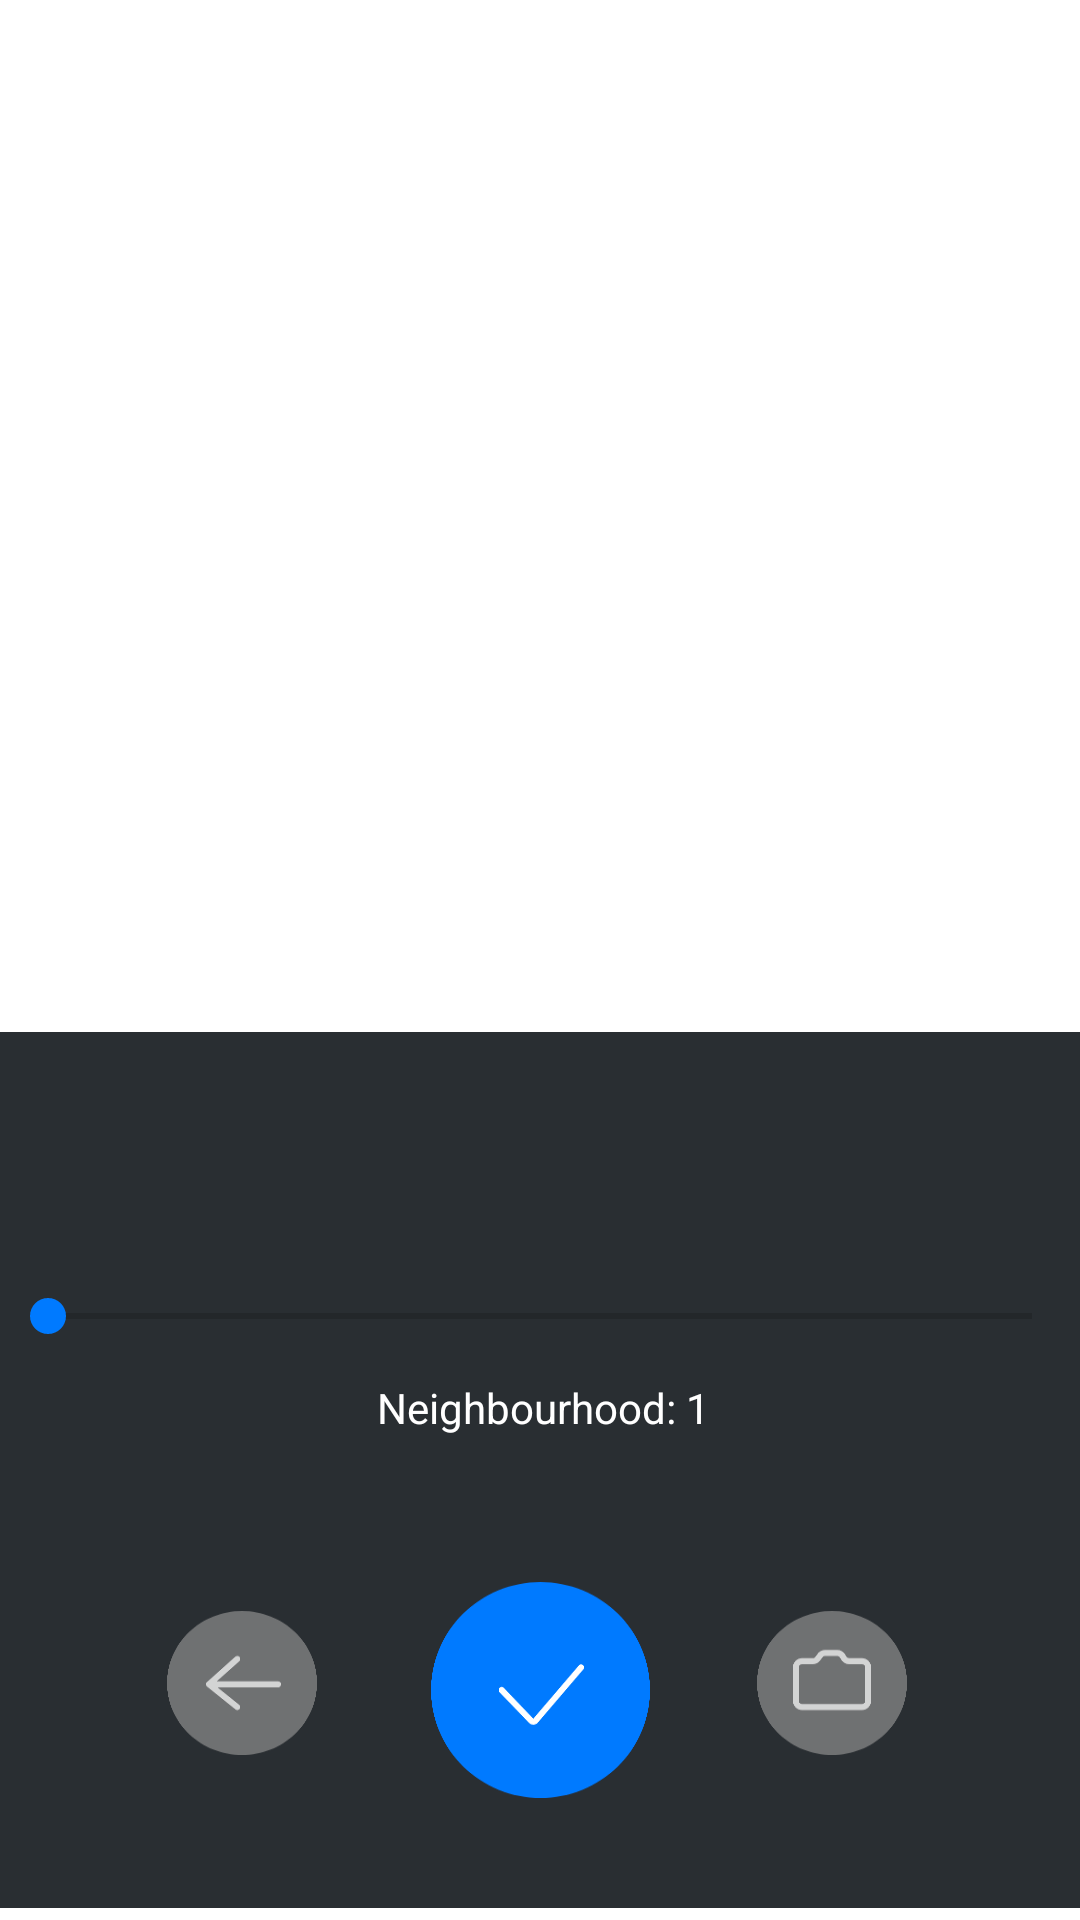

Icons on this 1080*1920 Android screen, each with the point to tap as (x,y):
apply filter: (540,1690)
Go back: (242,1683)
take a photo: (832,1683)
